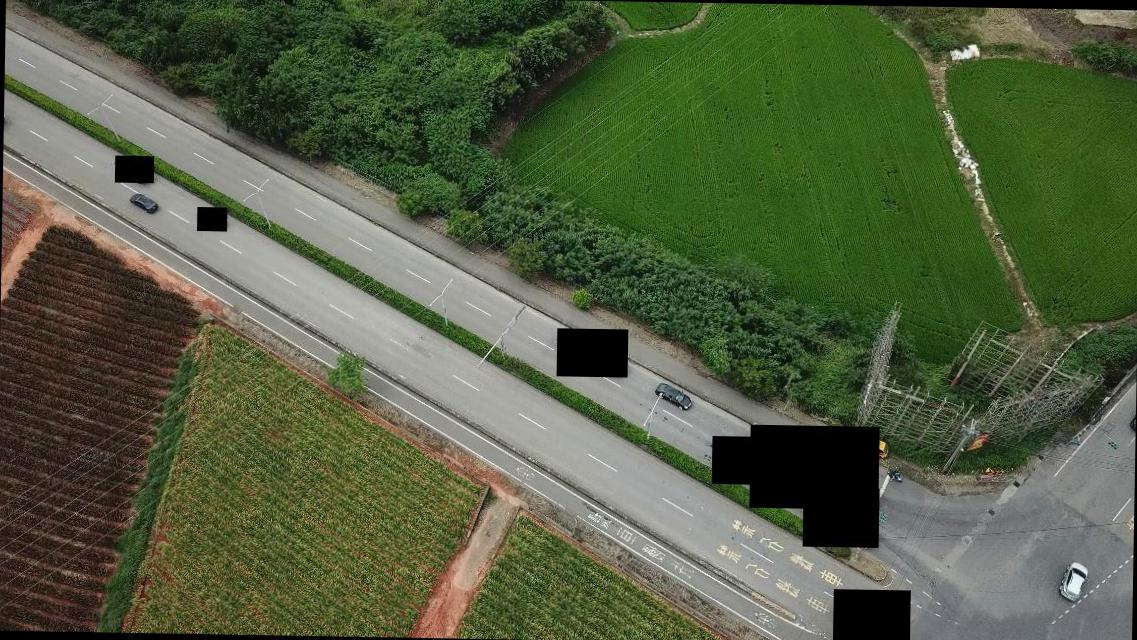vehicle: (1059, 560, 1090, 602), (656, 382, 691, 408), (859, 433, 889, 455), (130, 190, 158, 212)
